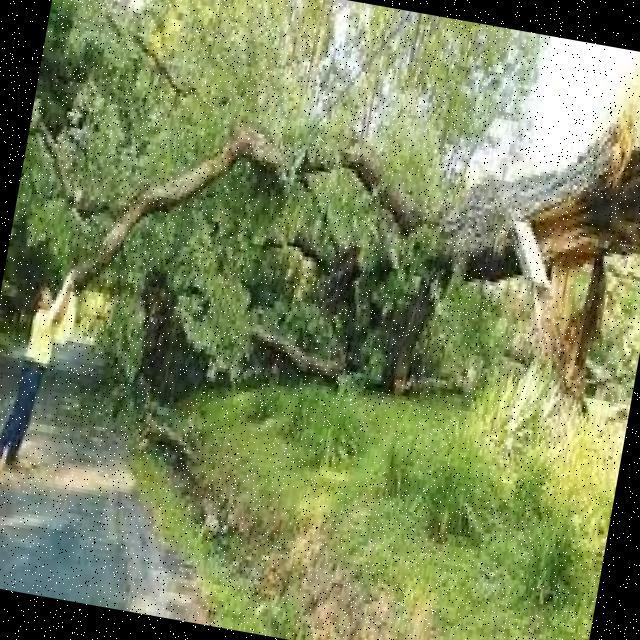fallen_object: (42, 88, 640, 418)
